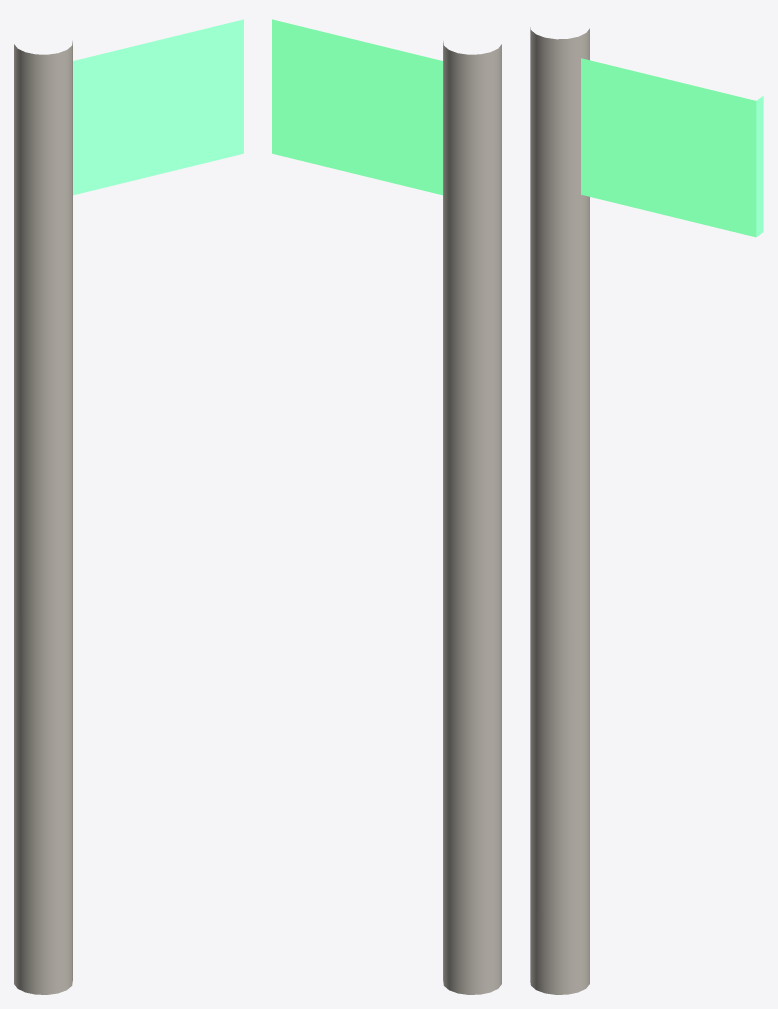
The model's file is model.checkpoint.glb.
The picture shows the model from 3 angles, left to right: view 1: azimuth 30°, elevation 25°; view 2: azimuth 150°, elevation 25°; view 3: azimuth 330°, elevation 25°; orthographic projection.
Parts seen in each view (by area): view 1: checkpoint; view 2: checkpoint; view 3: checkpoint.
Boxes of the visible parts, x1,y1,x2,y2 form: checkpoint: [14, 19, 243, 994]; checkpoint: [272, 19, 501, 994]; checkpoint: [530, 27, 763, 994].
Size of the model in its own units: 0.52 by 2.1 by 0.1201.
